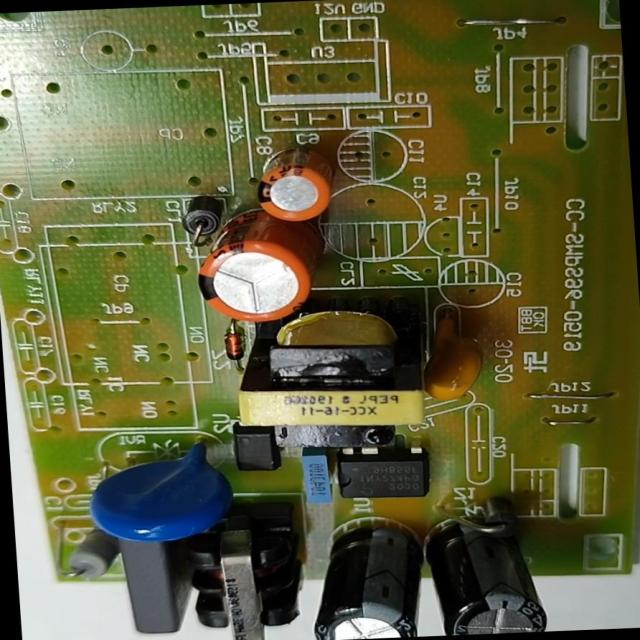Cap1: (185, 202, 317, 327)
Cap2: (250, 138, 339, 228)
Cap3: (304, 514, 436, 640)
Cap4: (426, 507, 550, 635)
MOSFET: (326, 440, 433, 504)
Mov: (79, 434, 236, 554)
Resistor: (59, 529, 120, 586)
Transformer: (224, 282, 435, 457), (173, 497, 306, 639)
